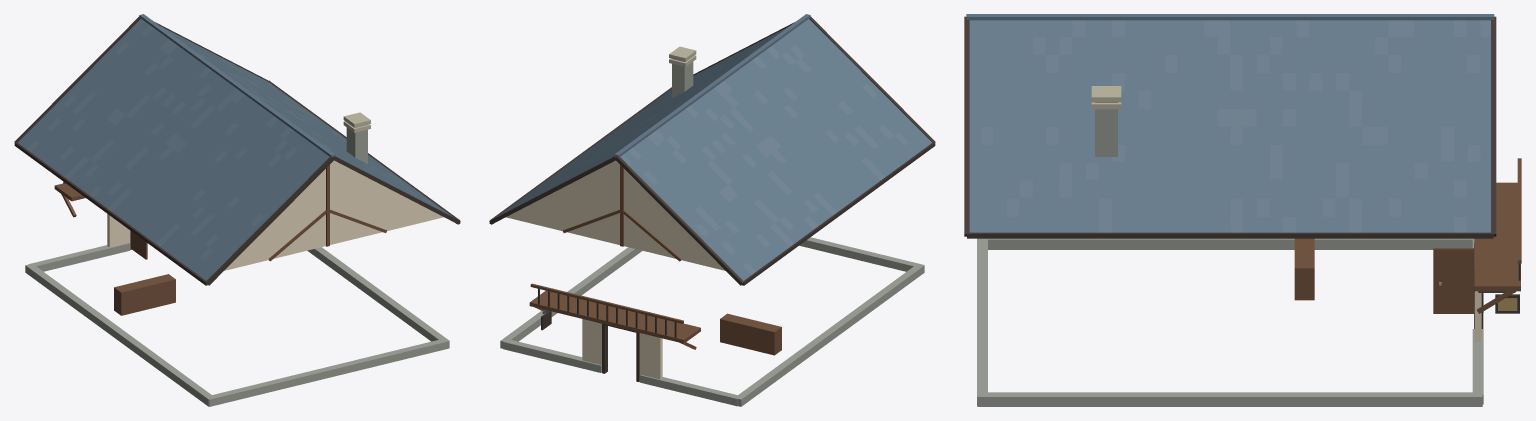
Rendered from SM_Inn_Details.glb.
The picture shows the model from 3 angles, left to right: view 1: azimuth 30°, elevation 25°; view 2: azimuth 150°, elevation 25°; view 3: azimuth 270°, elevation 25°; orthographic projection. The views are drawn at different scales.
Visible parts, largest first — view 1: SM_Inn_Details; view 2: SM_Inn_Details; view 3: SM_Inn_Details.
Part boxes in pixels (x1,y1,x2,y2): SM_Inn_Details: (14,14,460,406); SM_Inn_Details: (489,14,935,406); SM_Inn_Details: (964,14,1521,406).
Size of the model in its own units: 13.06 by 11.07 by 17.99.
